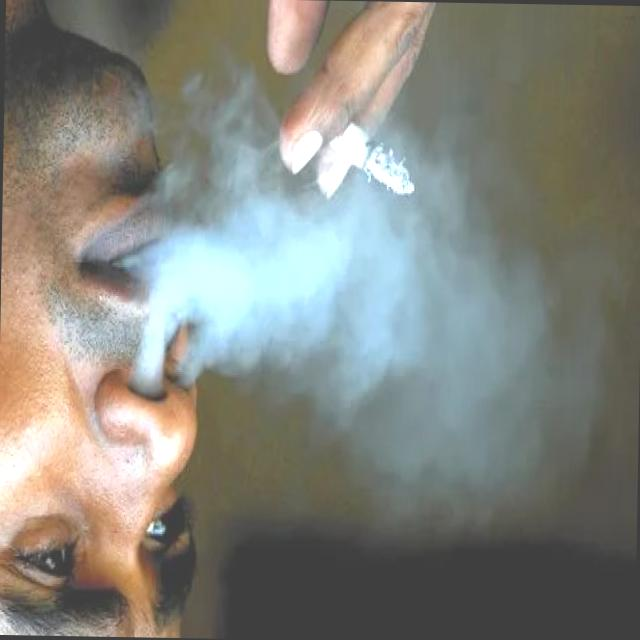smoke: (325, 110, 421, 208)
